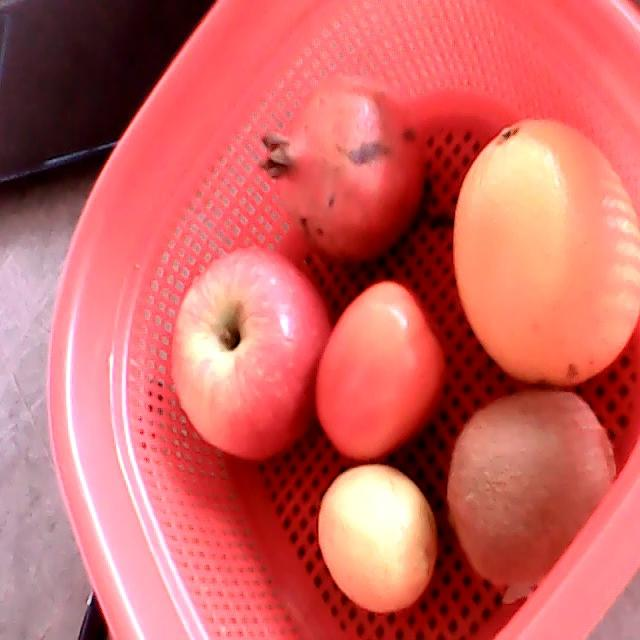apple: (168, 244, 330, 461)
kiwi: (446, 391, 618, 586)
lemon: (318, 464, 438, 613)
orange: (453, 117, 639, 384)
pomegranate: (257, 74, 426, 263)
tomato: (315, 278, 444, 464)
